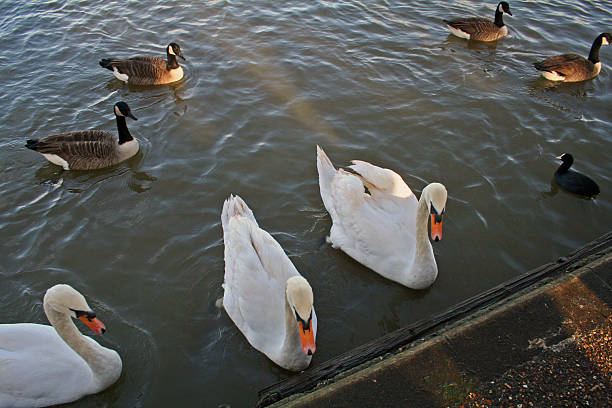goose: (315, 143, 450, 295), (217, 191, 322, 374), (1, 281, 125, 408), (23, 99, 143, 172), (97, 39, 190, 88), (532, 30, 612, 86), (441, 1, 514, 43)
